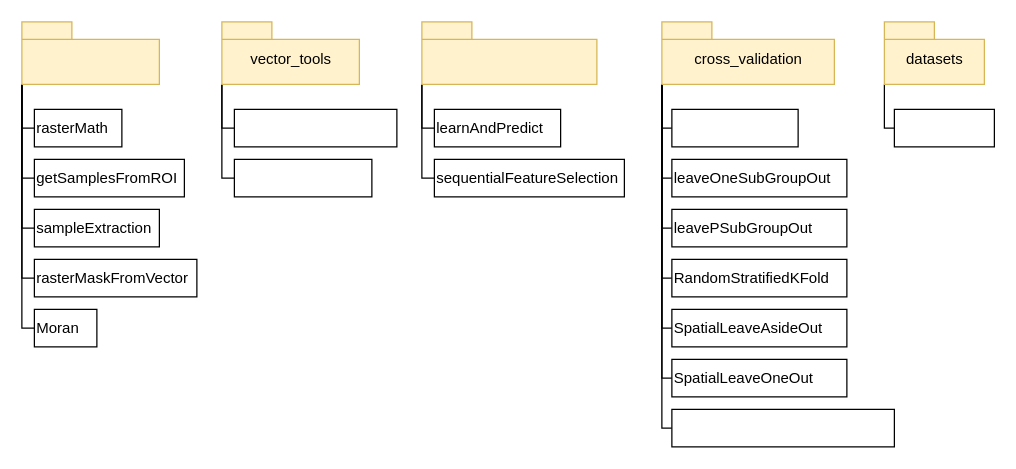
Some shapes in this 1016 by 469 pixel diagram are drawn without their labels. Here are the shapes that lost their labels. From the top down, the box of each, then its label:
(21, 21, 159, 84): raster_tools
(421, 21, 597, 84): learn_tools
(233, 108, 397, 147): readValuesFromVector
(671, 108, 798, 147): leaveOneOut
(893, 108, 994, 147): historicalMap
(233, 158, 372, 197): getDistanceMatrix
(671, 408, 894, 447): SpatialLeaveOneSubGroupOut
